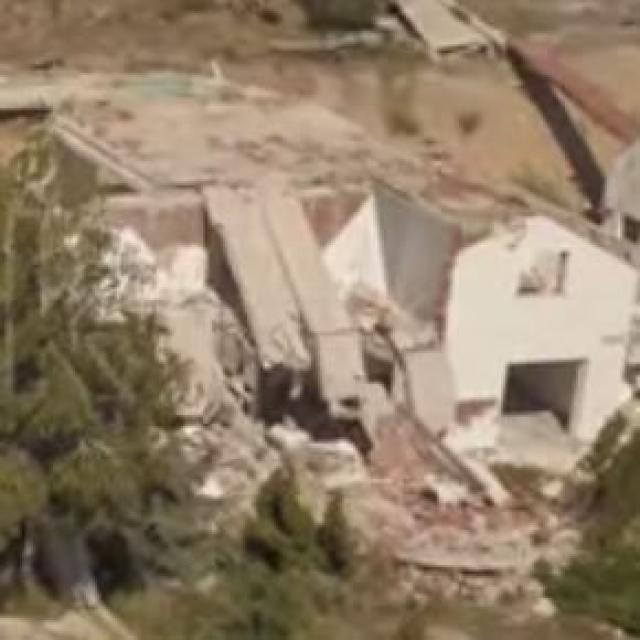collapsed_building: (137, 177, 613, 486)
